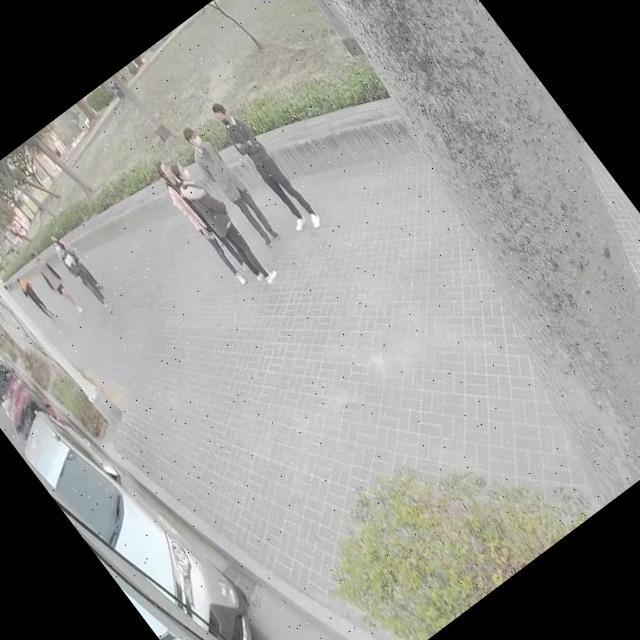person: (157, 146, 284, 298), (205, 91, 322, 236), (144, 150, 259, 290), (178, 120, 284, 251), (46, 228, 118, 316), (25, 243, 89, 320), (10, 268, 61, 328)
